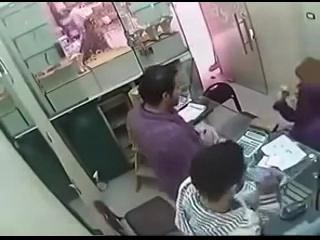Normal: (126, 63, 220, 200), (174, 140, 263, 236), (93, 196, 179, 236), (202, 82, 242, 112), (237, 125, 270, 158), (280, 201, 308, 220)
